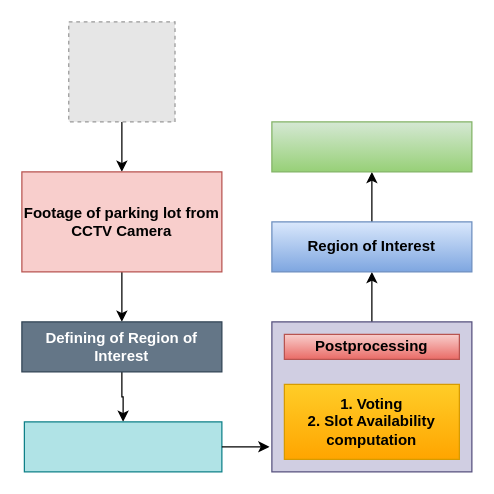
The diagram is 494 pixels wide and 494 high, and some of its shapes have lost their labels. Grey dashed boxes stand in for pictures. The shapes that lost their labels are listed below. From the top down, each one's centre as x and y in pixels, then its label:
point (371, 146): Identify parking availability
point (122, 446): YOLO v5 algorithm for vehicle detection
